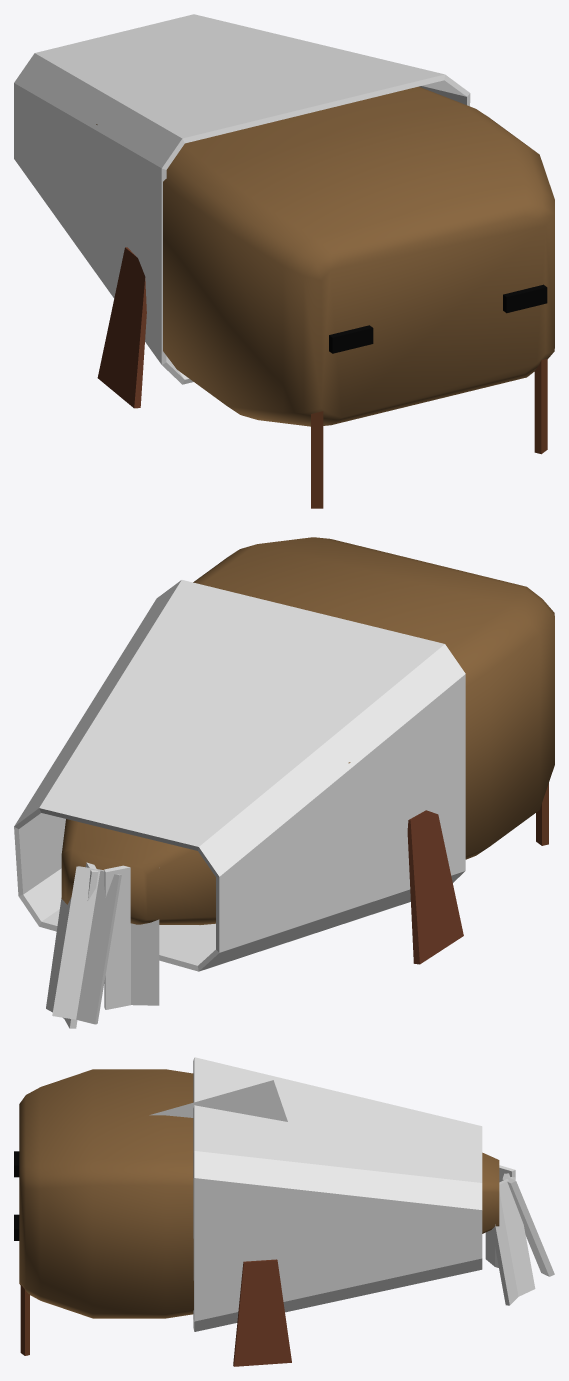
Rendered from master.glb.
3 renders of one model, top to bottom at view 1: azimuth 30°, elevation 25°; view 2: azimuth 150°, elevation 25°; view 3: azimuth 270°, elevation 25°, orthographic. The views are drawn at different scales.
Parts seen in each view (by area): view 1: body, clothes, arms, barba, eyes; view 2: clothes, body, tail, arms; view 3: clothes, body, arms, tail, hair, barba.
Part boxes in pixels (bbox=[...]): body: bbox=[96, 86, 554, 426]; clothes: bbox=[14, 14, 470, 384]; arms: bbox=[97, 247, 146, 408]; barba: bbox=[311, 358, 547, 508]; eyes: bbox=[329, 284, 547, 353]; clothes: bbox=[14, 580, 465, 971]; body: bbox=[61, 537, 554, 924]; tail: bbox=[46, 862, 159, 1028]; arms: bbox=[407, 810, 463, 964]; clothes: bbox=[193, 1057, 482, 1331]; body: bbox=[19, 1069, 499, 1318]; arms: bbox=[233, 1259, 291, 1366]; tail: bbox=[485, 1165, 554, 1305]; hair: bbox=[149, 1080, 287, 1121]; barba: bbox=[20, 1284, 29, 1355].
Size of the model in its own units: 1.92 by 1.78 by 3.69.
